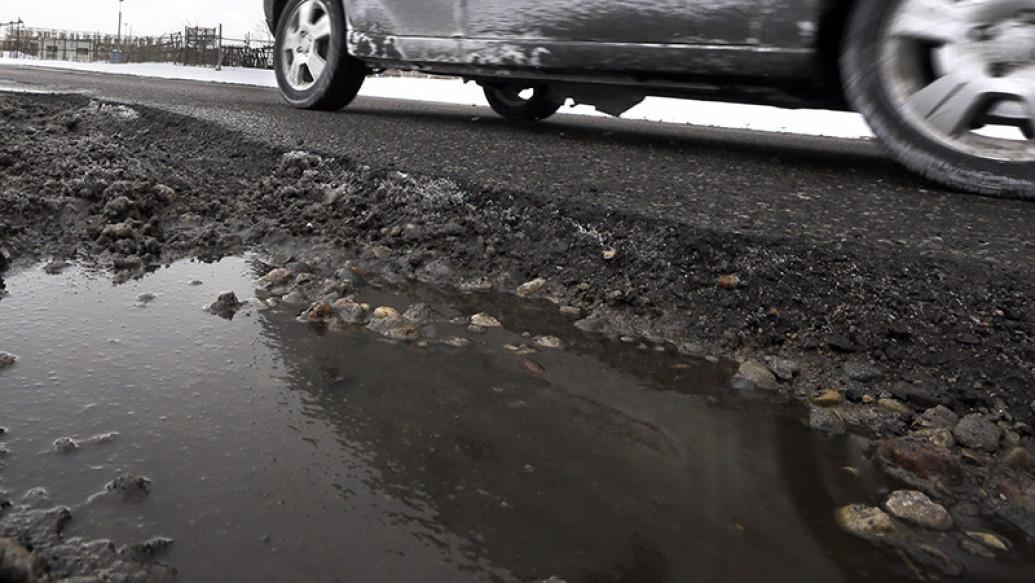Pothole: (0, 221, 1035, 583)
